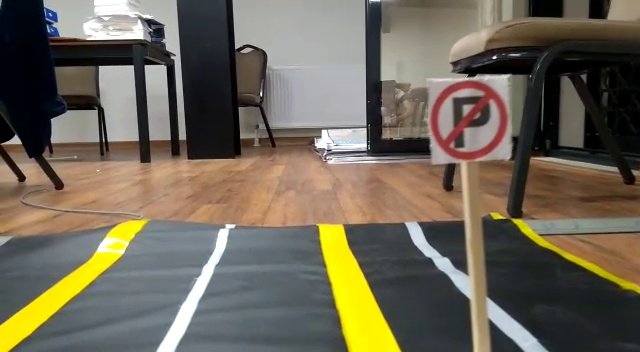park_yapilmaz: (426, 76, 509, 160)
